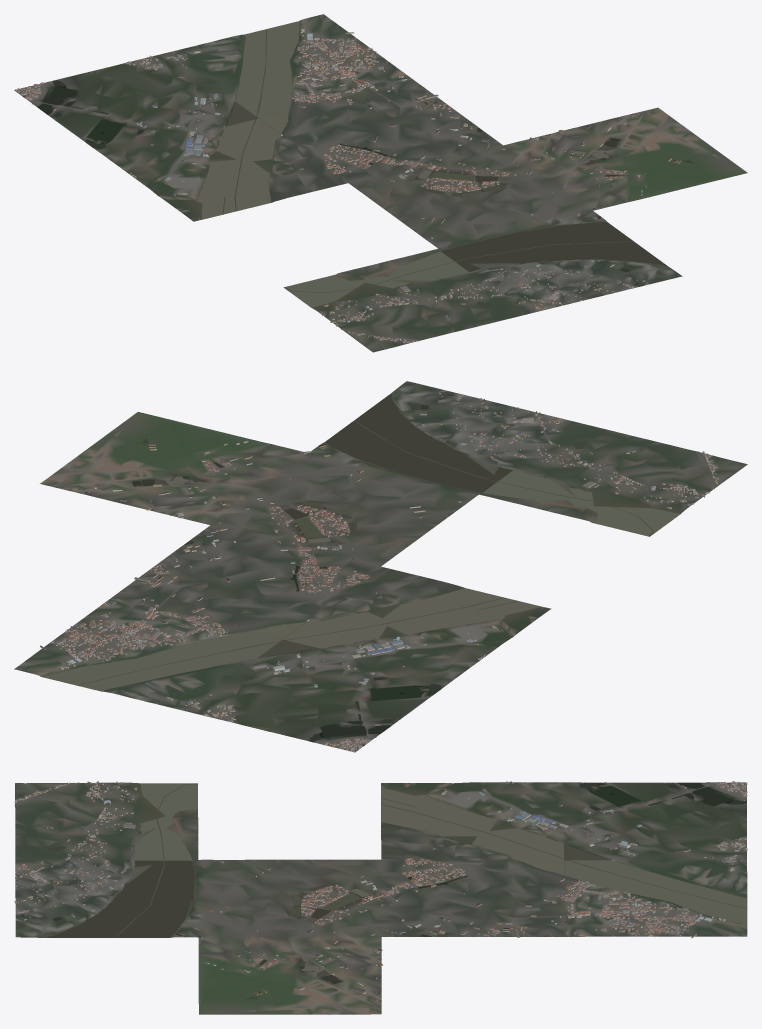
3 views of the same model, one above another, from view 1: azimuth 30°, elevation 25°; view 2: azimuth 150°, elevation 25°; view 3: azimuth 270°, elevation 25° (orthographic). The views are drawn at different scales.
Parts seen in each view (by area): view 1: ground, water, buildings; view 2: ground, water, buildings; view 3: ground, water, buildings, roads.
Boxes of the visible parts, x1=… form: ground: x1=14, y1=14, x2=747, y2=352; water: x1=22, y1=21, x2=697, y2=308; buildings: x1=15, y1=29, x2=681, y2=343; ground: x1=14, y1=381, x2=747, y2=752; water: x1=41, y1=394, x2=679, y2=745; buildings: x1=40, y1=392, x2=718, y2=751; ground: x1=15, y1=782, x2=747, y2=1014; water: x1=21, y1=782, x2=747, y2=999; buildings: x1=14, y1=781, x2=747, y2=1000; roads: x1=14, y1=782, x2=747, y2=969.
Bounding box in the file's own units: 4218 × 29.18 × 5624.
